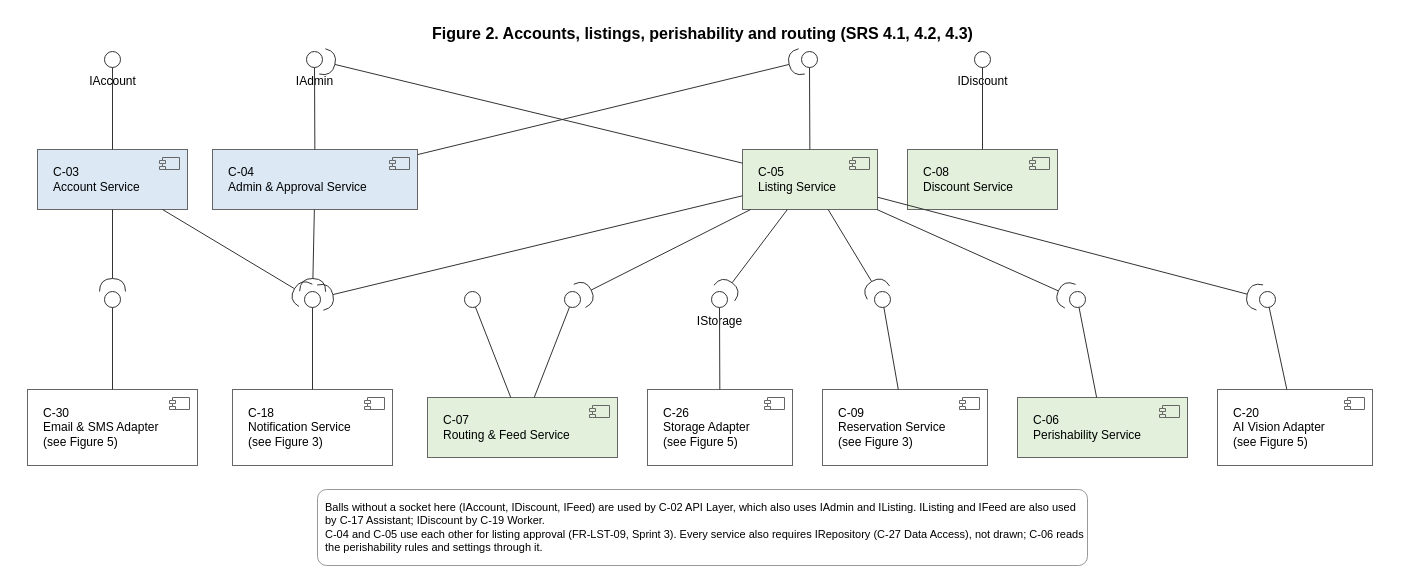
This 1404x583 diagram has some shape labels left out. Each missing label, with the centre of its shape:
"IFeed" goes at pixel 472 299.
"IListing" goes at pixel 809 59.
"IMessaging" goes at pixel 112 299.
"INotification" goes at pixel 312 299.
"IPerishability" goes at pixel 1077 299.
"IReservation" goes at pixel 882 299.
"IRouting" goes at pixel 572 299.
"IVision" goes at pixel 1267 299.
